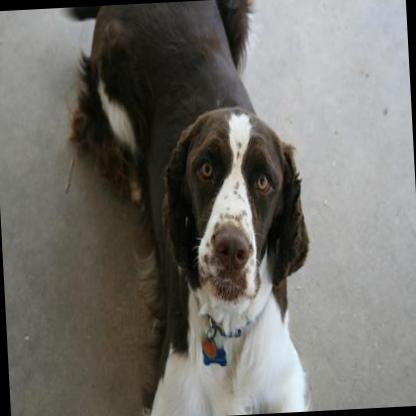English_springer: (62, 0, 317, 416)
